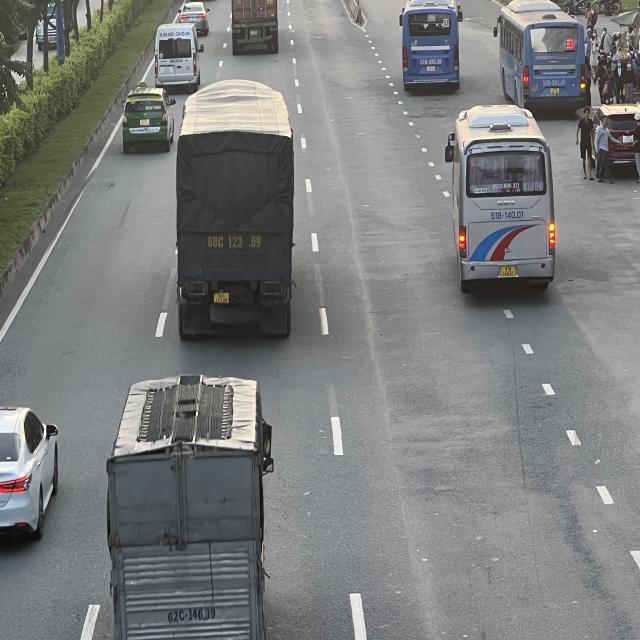car: (0, 406, 59, 545), (580, 106, 640, 177), (120, 89, 176, 152), (180, 0, 210, 33)
coach: (442, 109, 551, 298), (497, 0, 587, 109), (400, 0, 462, 90)
container: (231, 1, 279, 53)
truck: (102, 370, 270, 637), (174, 78, 294, 344)
van: (152, 20, 202, 88)
